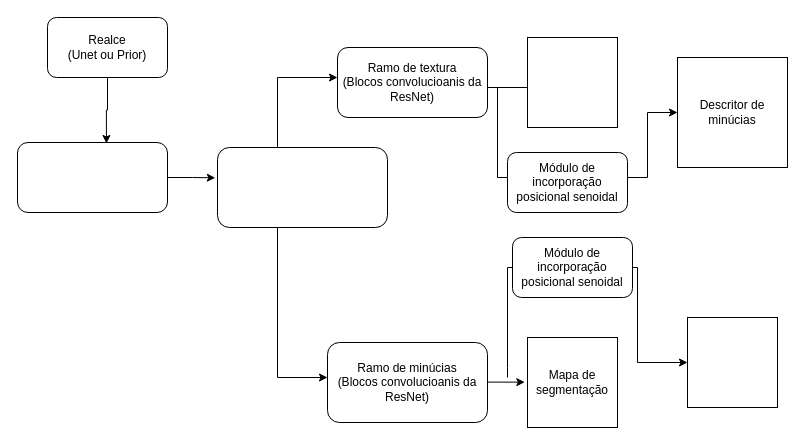
The diagram is 805 pixels wide and 445 high, and some of its shapes have lost their labels. The centre of each missing label's shape, as x and y in pixels:
"Alinhamento de pose (Votação ou Regressão)" goes at (92,177).
"Descritor de textura" goes at (732,362).
"Mapa de minúcias" goes at (572,82).
"Rede base ResNet (1° camada de MaxPooling removida)" goes at (302,187).
